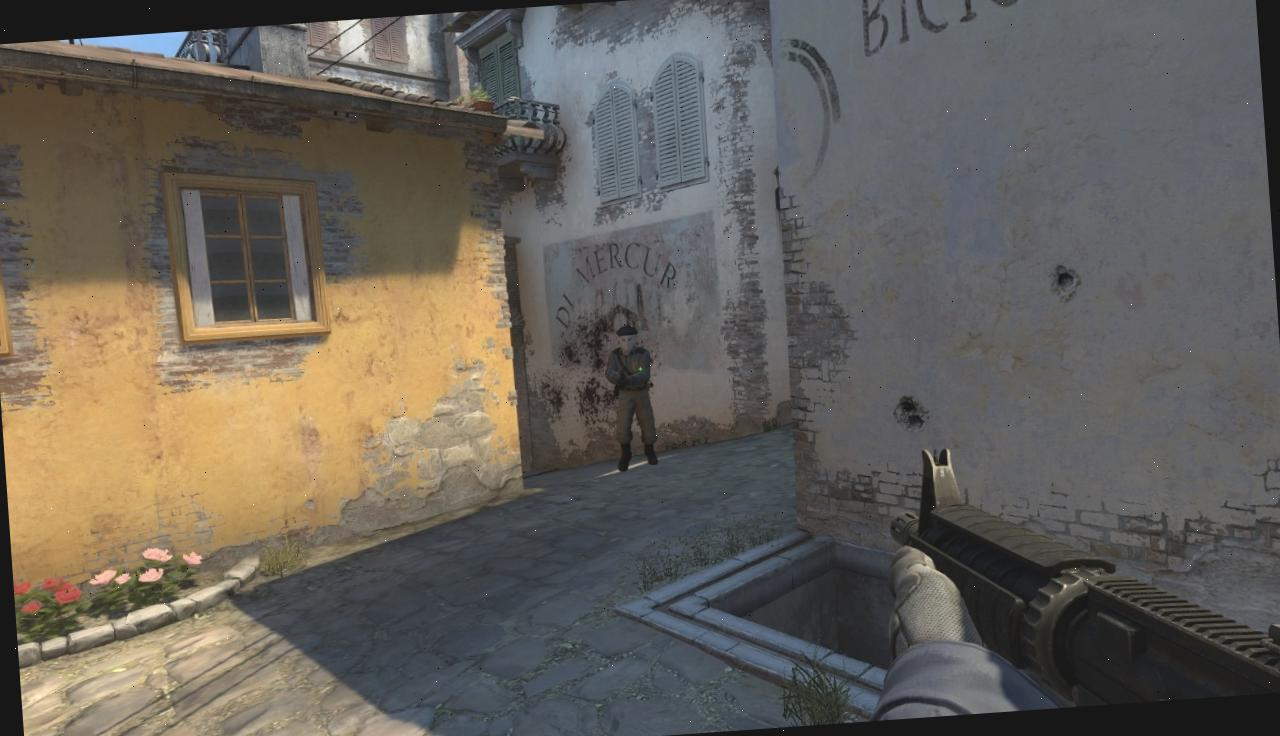rifle: (881, 421, 1280, 719)
tt: (608, 324, 658, 467)
tthead: (616, 327, 636, 352)
